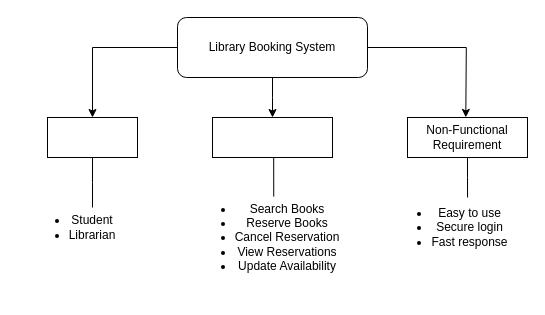
The diagram is 545 pixels wide and 315 high, and some of its shapes have lost their labels. The shapes that lost their labels are listed below. From the top down, each one's box as (x1, y1, x2, y2) in pixels, then its label:
(46, 116, 138, 158): Actors
(212, 116, 332, 158): Functional Requirement
